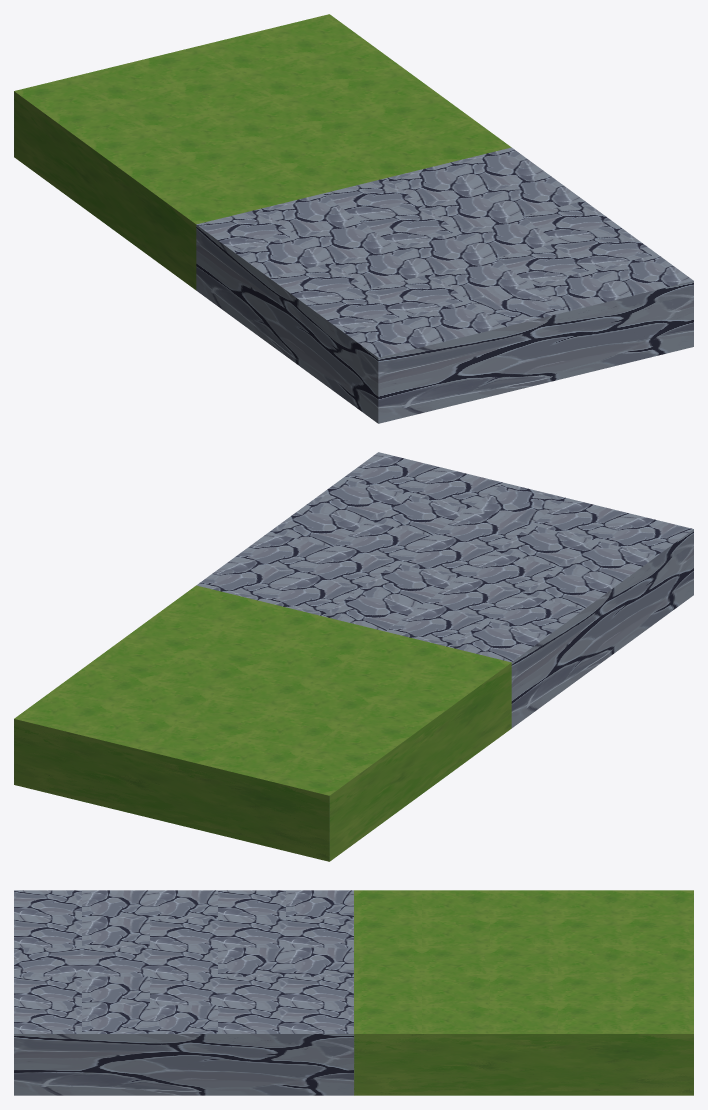
File: GameJamfloors.fbx
3 views of the same model, one above another, from view 1: azimuth 30°, elevation 25°; view 2: azimuth 150°, elevation 25°; view 3: azimuth 270°, elevation 25° (orthographic). The views are drawn at different scales.
Visible parts, largest first — view 1: StoneCube.097, MossCube.002; view 2: MossCube.002, StoneCube.097; view 3: StoneCube.097, MossCube.002.
Part boxes in pixels (<box>): StoneCube.097: <box>196,147,693,423</box>; MossCube.002: <box>14,14,511,290</box>; MossCube.002: <box>14,585,511,861</box>; StoneCube.097: <box>196,452,693,728</box>; StoneCube.097: <box>14,890,353,1095</box>; MossCube.002: <box>354,890,693,1095</box>.
Bounding box in the file's own units: 1000 × 200 × 2000.
